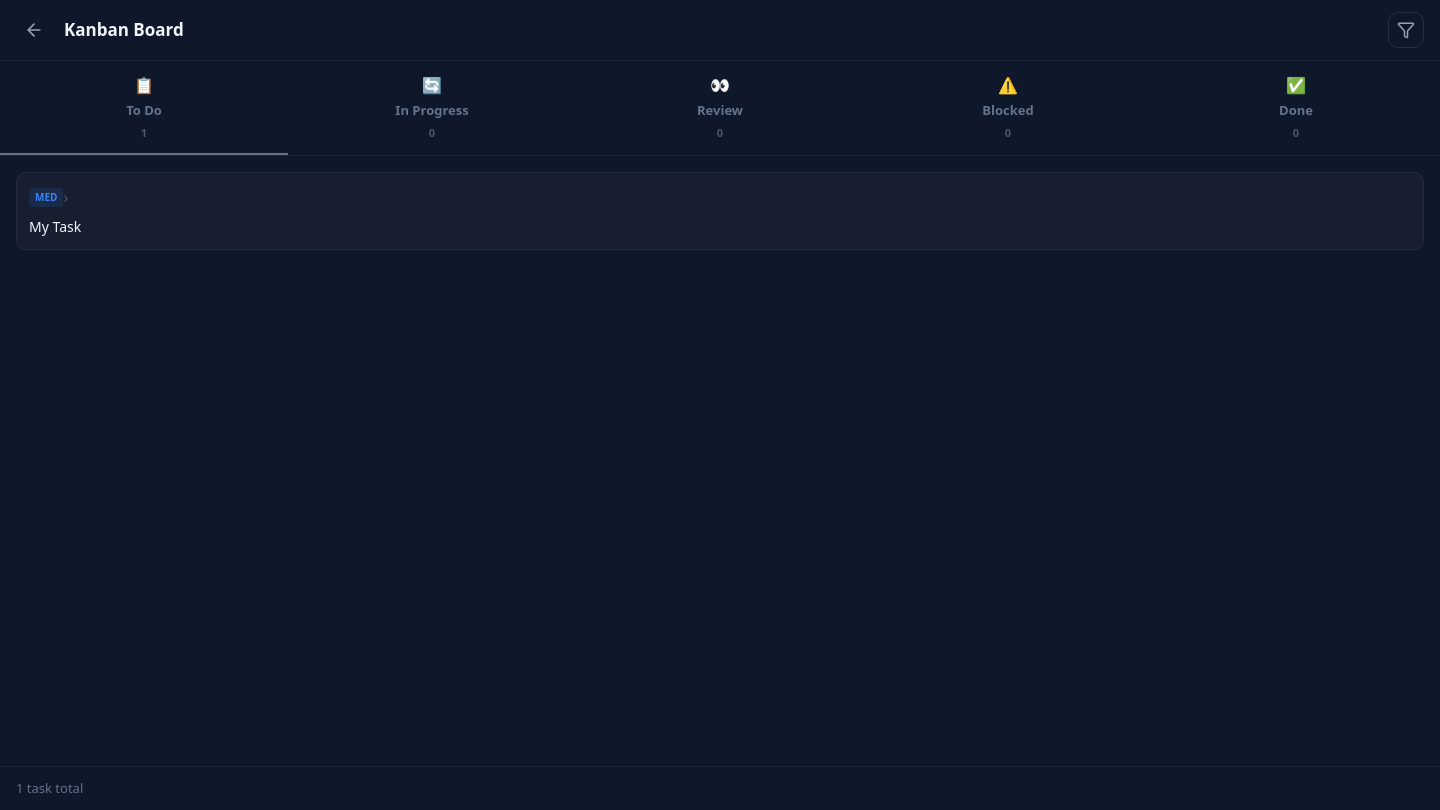
Test: MobileKanbanPanel › task detail modal › shows task status in detail modal
Click the button "MED › My Task" at point(46, 197), box x1=16 y1=172 x2=1424 y2=250
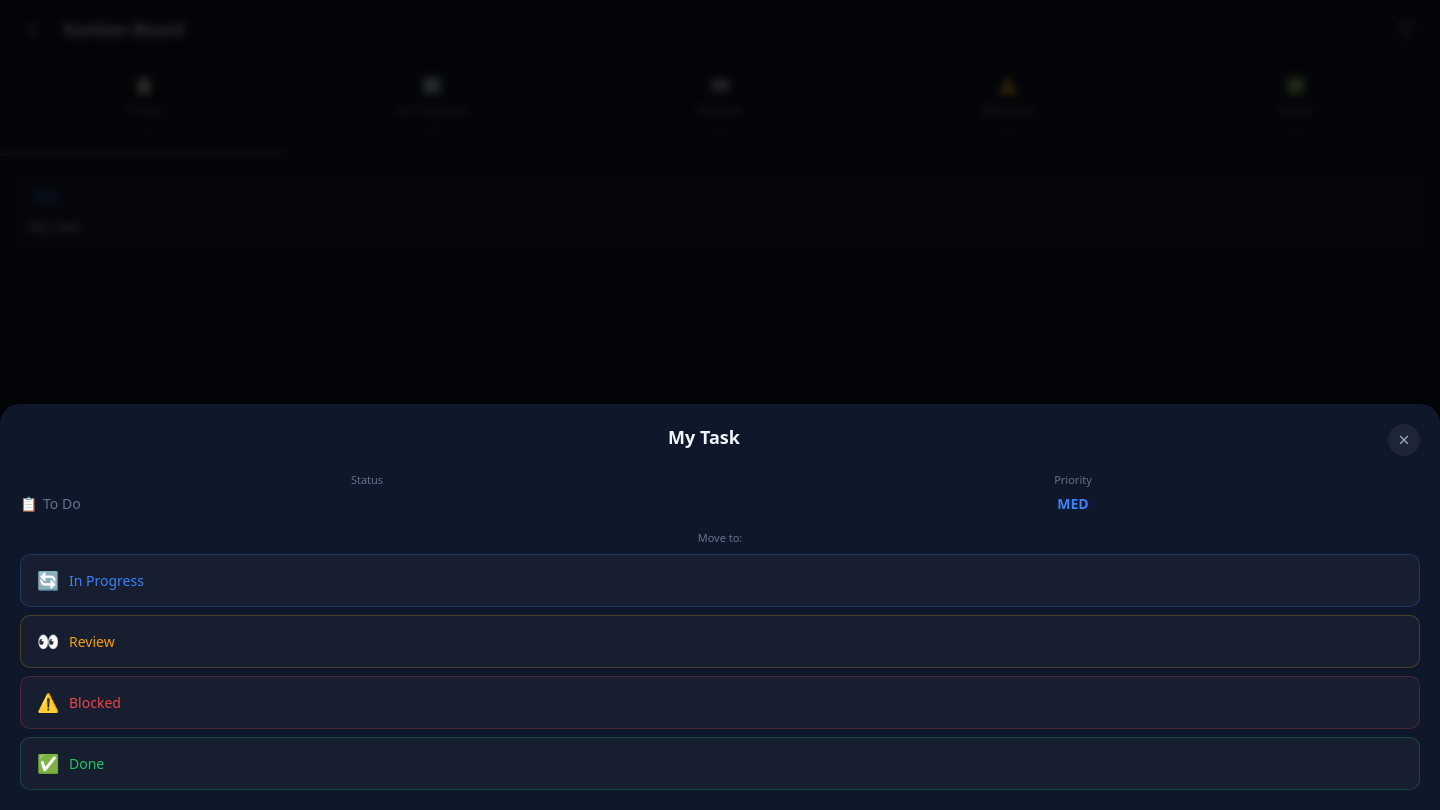
Expected: the text "Status" is shown, x1=351 y1=472 x2=383 y2=487
